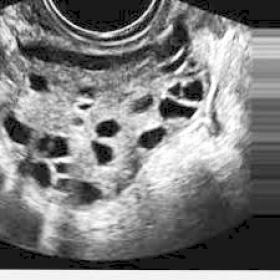PCOS: (4, 113, 35, 149), (154, 99, 199, 123), (21, 158, 51, 192), (87, 138, 118, 169), (138, 126, 169, 152), (47, 135, 72, 162), (130, 90, 158, 114), (93, 119, 124, 139), (182, 81, 207, 103), (78, 180, 99, 204), (27, 74, 52, 94), (167, 80, 184, 101), (37, 129, 50, 154), (53, 158, 66, 177), (74, 102, 95, 112), (77, 86, 97, 96)
